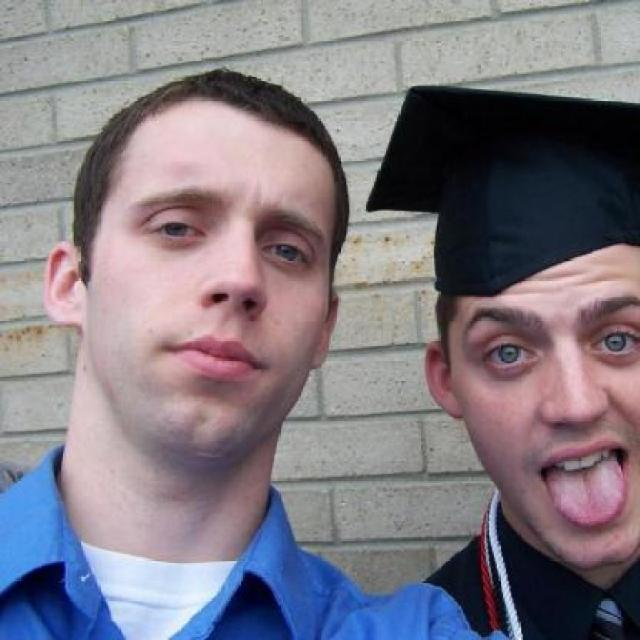awake: (483, 336, 531, 373), (591, 323, 638, 359), (148, 213, 202, 244), (261, 235, 307, 270)
